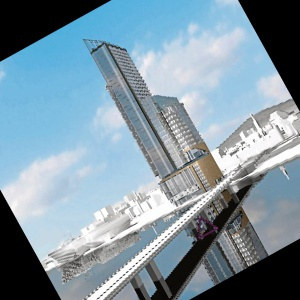triangle: (194, 216, 219, 241)
